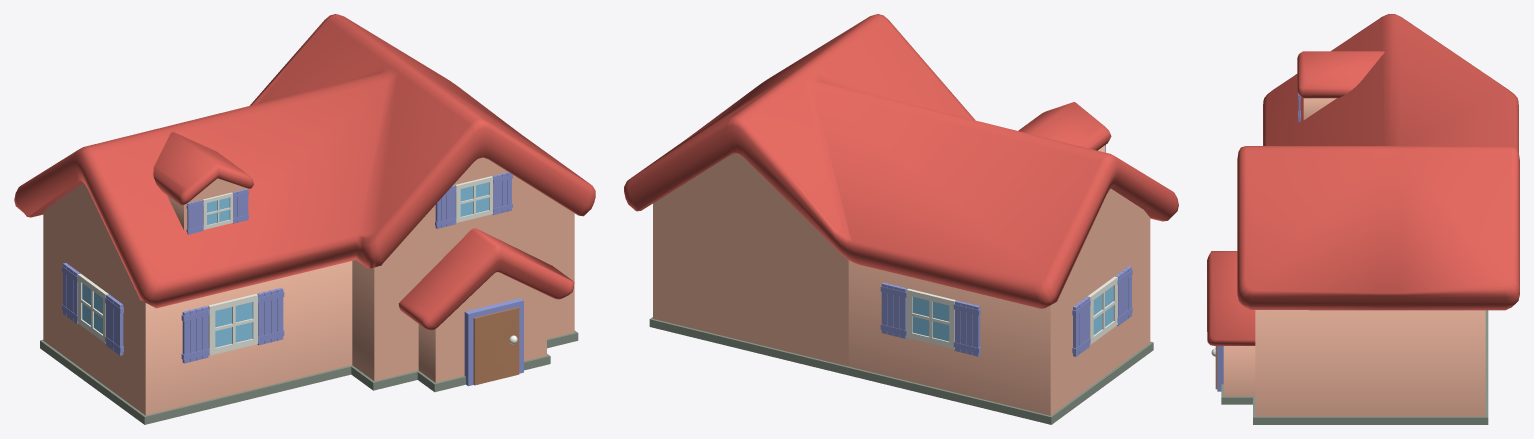
The model's file is house.FBX.
3 renders of one model, left to right at view 1: azimuth 30°, elevation 25°; view 2: azimuth 150°, elevation 25°; view 3: azimuth 270°, elevation 25°, orthographic. The views are drawn at different scales.
Visible parts, largest first — view 1: obj_31; view 2: obj_31; view 3: obj_31.
Boxes of the visible parts, x1,y1,x2,y2 form: obj_31: (14, 14, 595, 424); obj_31: (624, 14, 1178, 424); obj_31: (1207, 14, 1519, 424).
Size of the model in its own units: 389 by 210 by 258.
